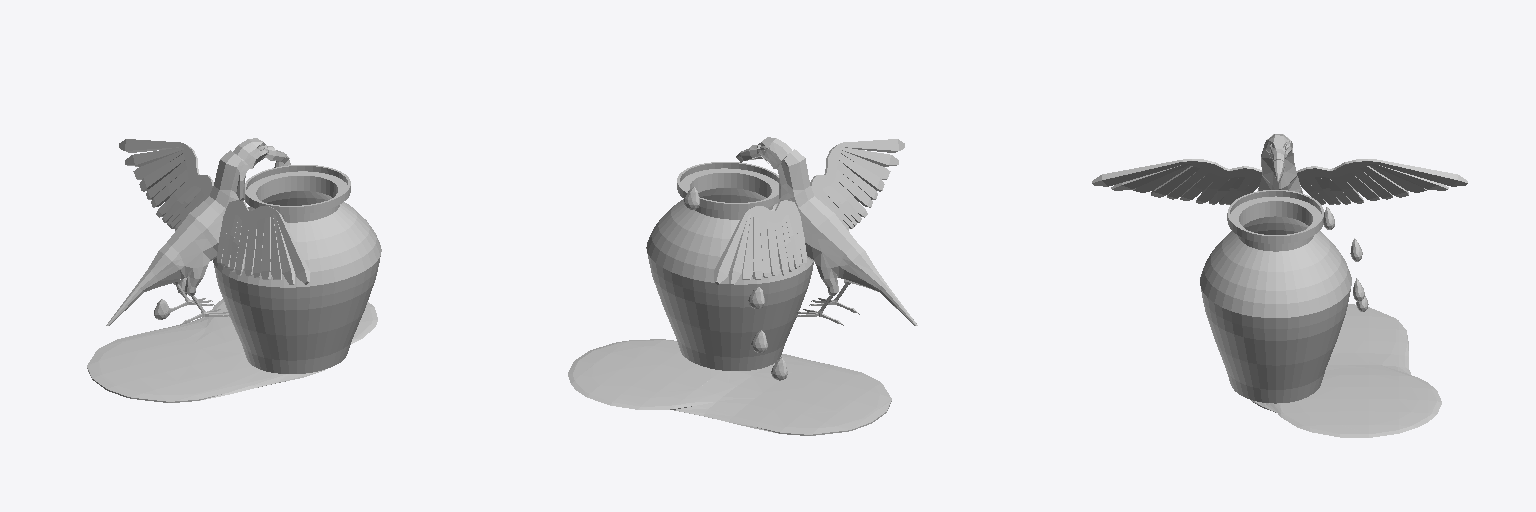
Rendered from bheegahuakaua19.obj.
3 views of the same model, side by side, from view 1: azimuth 30°, elevation 25°; view 2: azimuth 150°, elevation 25°; view 3: azimuth 270°, elevation 25° (orthographic).
Parts seen in each view (by area): view 1: Circle, Cylinder, Mball; view 2: Circle, Mball, Cylinder; view 3: Circle, Mball, Cylinder.
Part boxes in pixels (bbox=[...]): Circle: bbox=[213, 165, 381, 373]; Cylinder: bbox=[106, 138, 309, 325]; Mball: bbox=[87, 299, 377, 402]; Circle: bbox=[646, 162, 813, 370]; Mball: bbox=[568, 339, 891, 435]; Cylinder: bbox=[714, 137, 917, 325]; Circle: bbox=[1200, 190, 1351, 403]; Mball: bbox=[1251, 304, 1441, 437]; Cylinder: bbox=[1092, 134, 1467, 204].
Size of the model in its own units: 1.18 by 0.8829 by 1.28.